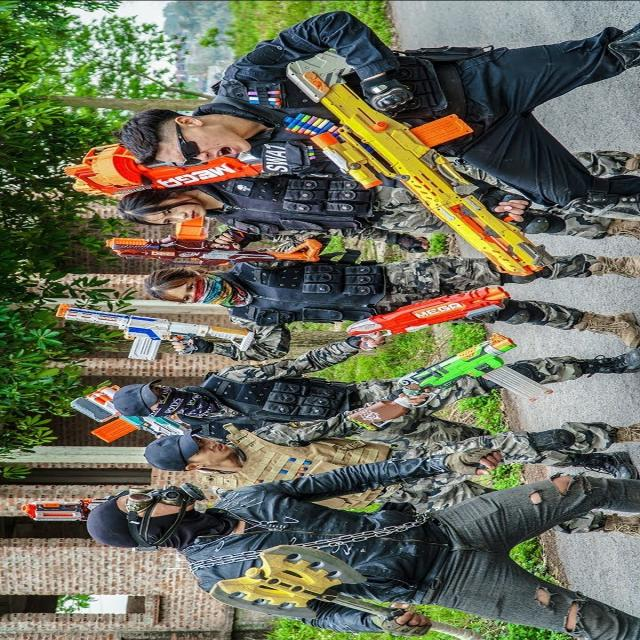Nerf gun: (278, 44, 564, 276), (342, 334, 558, 434), (57, 139, 284, 202), (98, 215, 336, 272), (341, 282, 519, 350), (45, 310, 264, 362), (67, 379, 198, 459), (10, 492, 111, 528)
